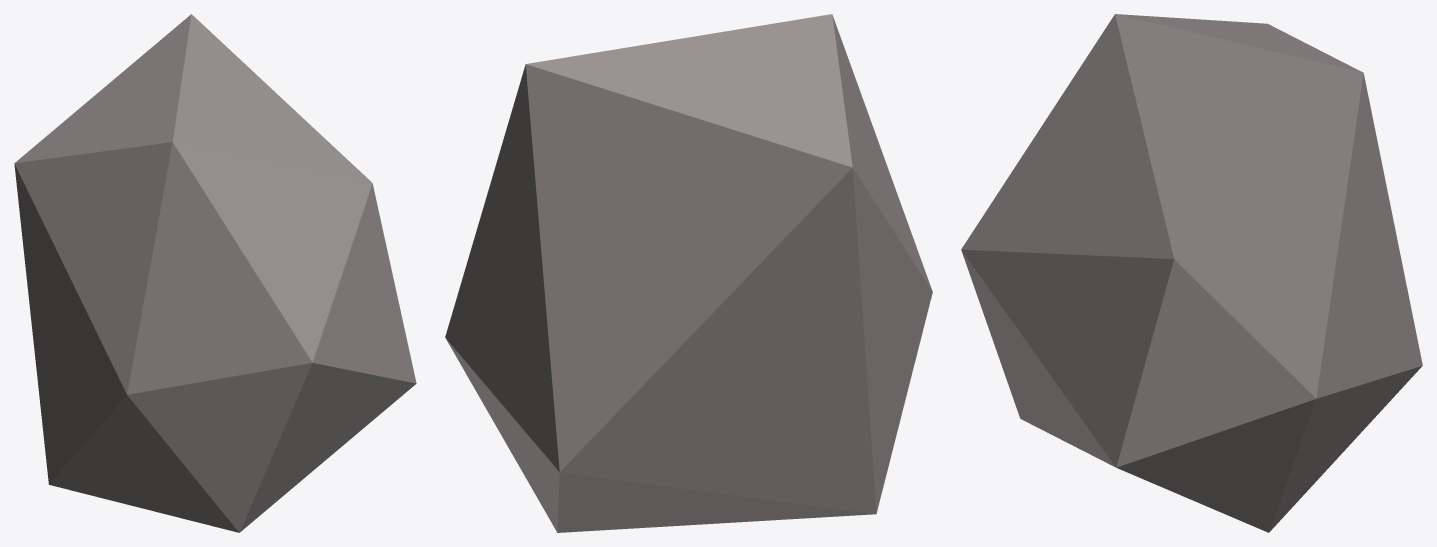
3 renders of one model, left to right at view 1: azimuth 30°, elevation 25°; view 2: azimuth 150°, elevation 25°; view 3: azimuth 270°, elevation 25°, orthographic. The views are drawn at different scales.
Parts seen in each view (by area): view 1: toDelete.001; view 2: toDelete.001; view 3: toDelete.001.
Boxes of the visible parts, x1=… form: toDelete.001: x1=14, y1=14, x2=416, y2=532; toDelete.001: x1=445, y1=14, x2=932, y2=532; toDelete.001: x1=961, y1=14, x2=1422, y2=532.
Size of the model in its own units: 0.5509 by 0.6629 by 0.6156.
Materials: 1 (1 with a texture image).
